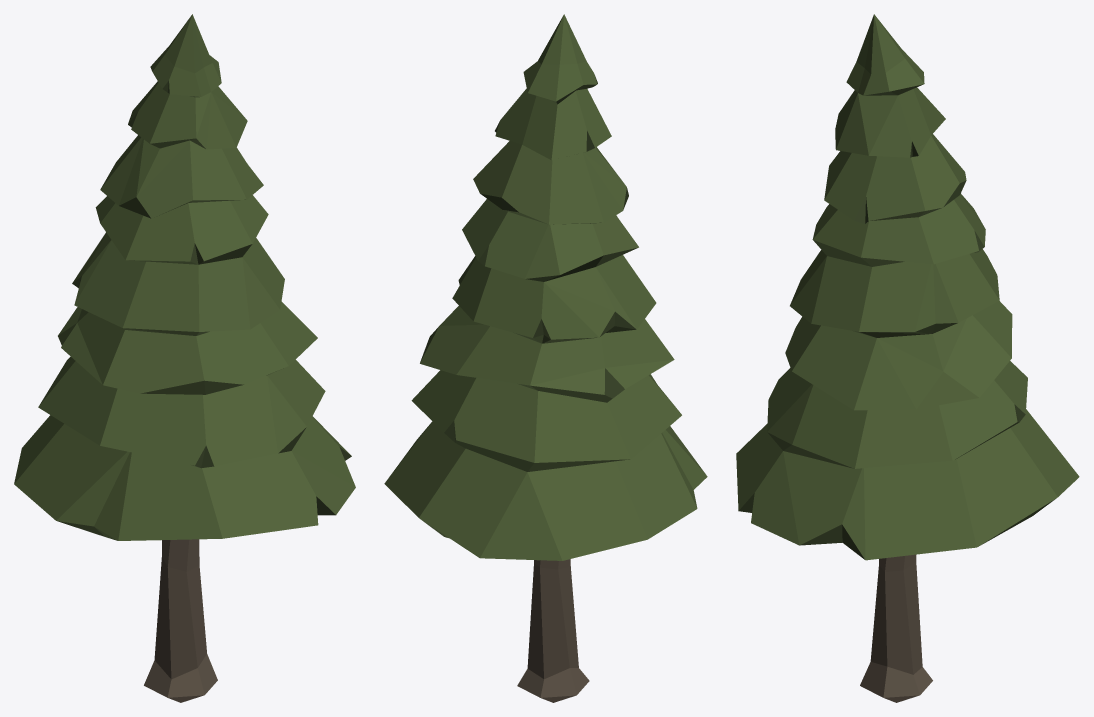
Rendered from Tree_058.fbx.
The picture shows the model from 3 angles, left to right: view 1: azimuth 30°, elevation 25°; view 2: azimuth 150°, elevation 25°; view 3: azimuth 270°, elevation 25°; orthographic projection. The views are drawn at different scales.
Visible parts, largest first — view 1: Tree_058; view 2: Tree_058; view 3: Tree_058.
Part boxes in pixels (box(x1,y1,x2,y2)): Tree_058: box(14, 14, 355, 702); Tree_058: box(384, 14, 707, 702); Tree_058: box(736, 14, 1079, 702).
Bounding box in the file's own units: 0.5226 × 1.19 × 0.5391.
1 material, 1 textured.
